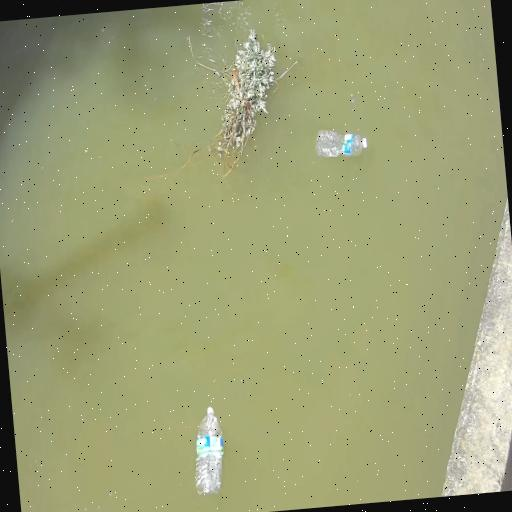plastic: (196, 407, 223, 494), (316, 130, 367, 157), (362, 137, 367, 148)
twig: (191, 29, 281, 163)
